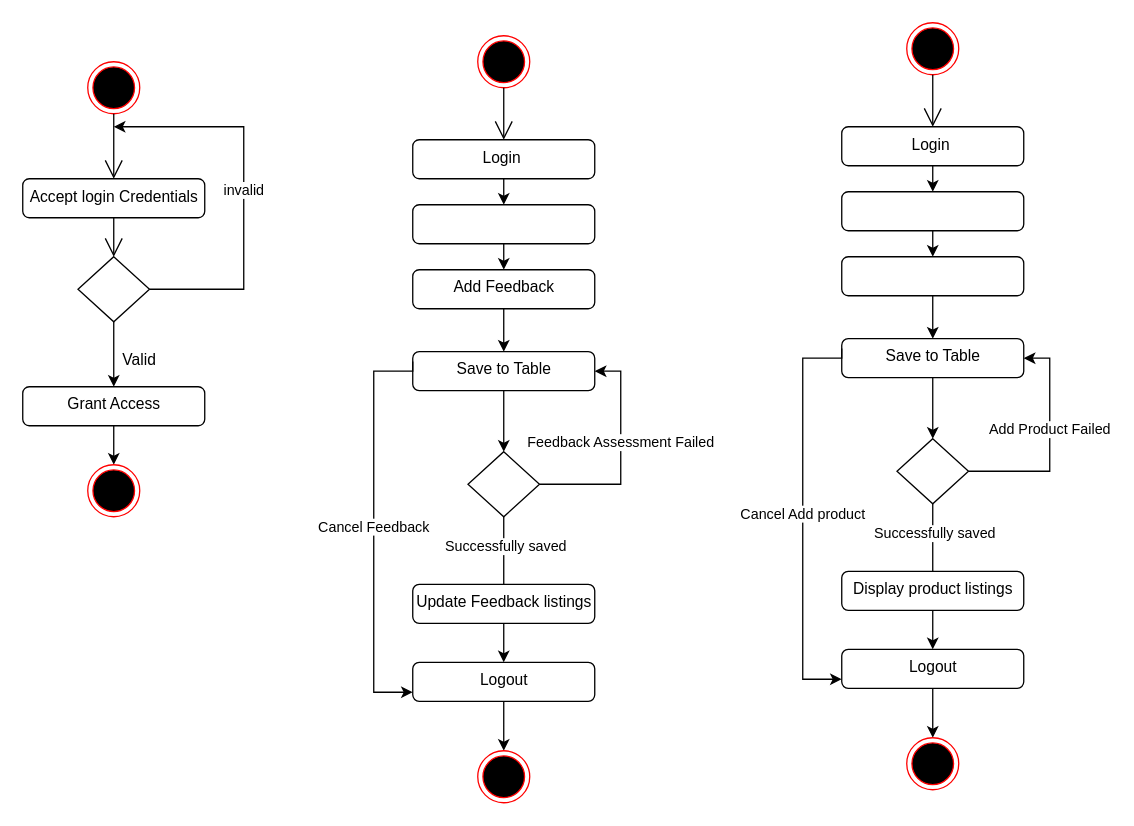
Some shapes in this 1134 by 826 pixel diagram are drawn without their labels. The shapes that lost their labels are listed below. From the top down, each one's box as (x1, y1, x2, y2) in pixels, then its label:
(411, 203, 595, 244): Select Product
(840, 190, 1024, 231): Click Add products
(840, 255, 1024, 296): Fill Add product form
